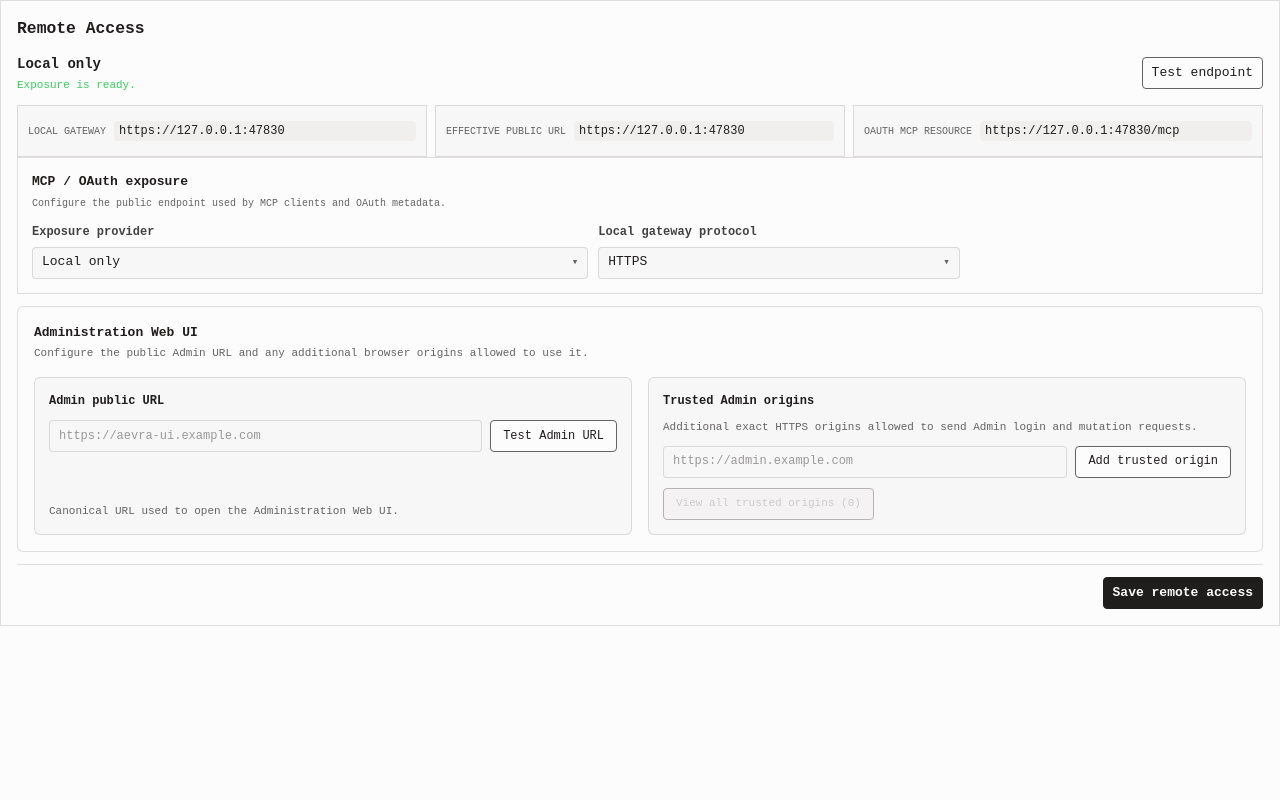
it: RemoteAccessSettings branches › probes the admin URL and reports each reachability outcome
Click the button "Test Admin URL" at [554, 436], box [490,420,617,452]
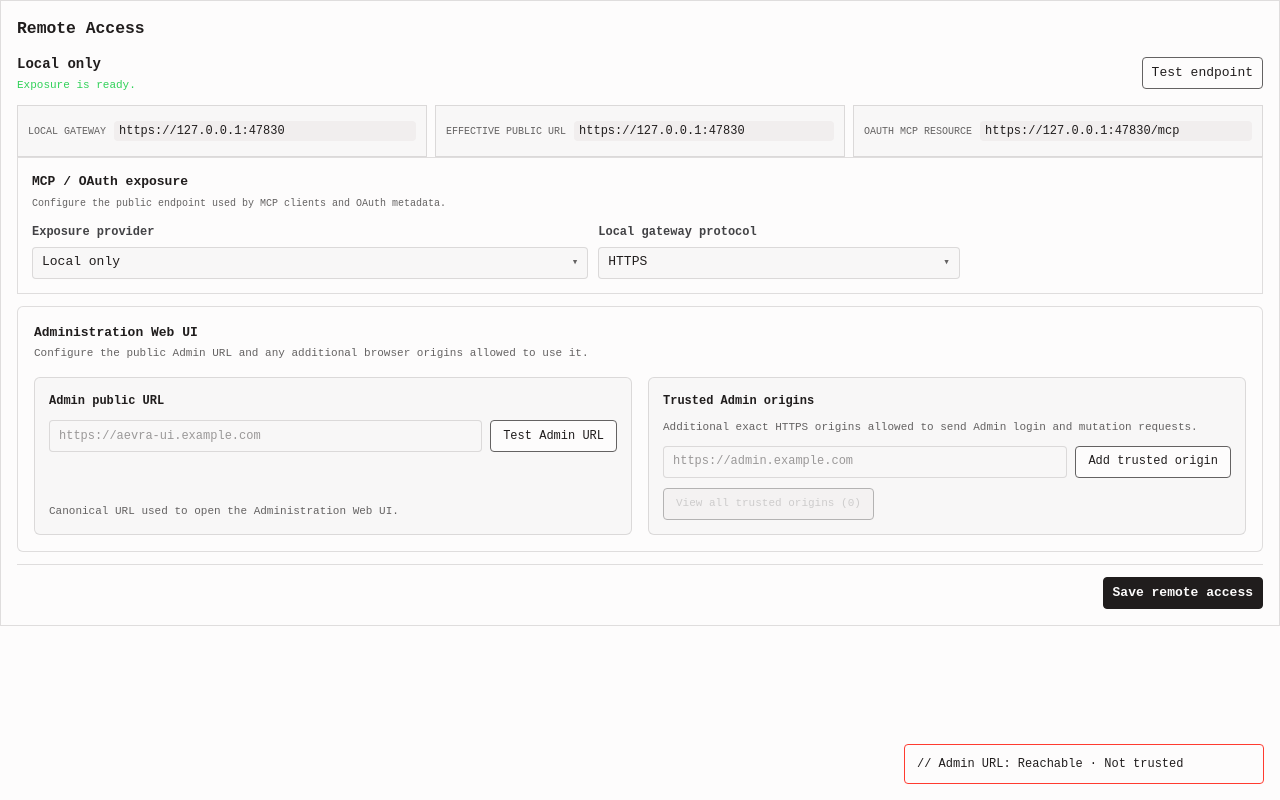
Expected: the message with class "toast" shows "Not trusted", [939,757,1183,771]
Click the button "Test Admin URL" at [554, 436], box [490,420,617,452]
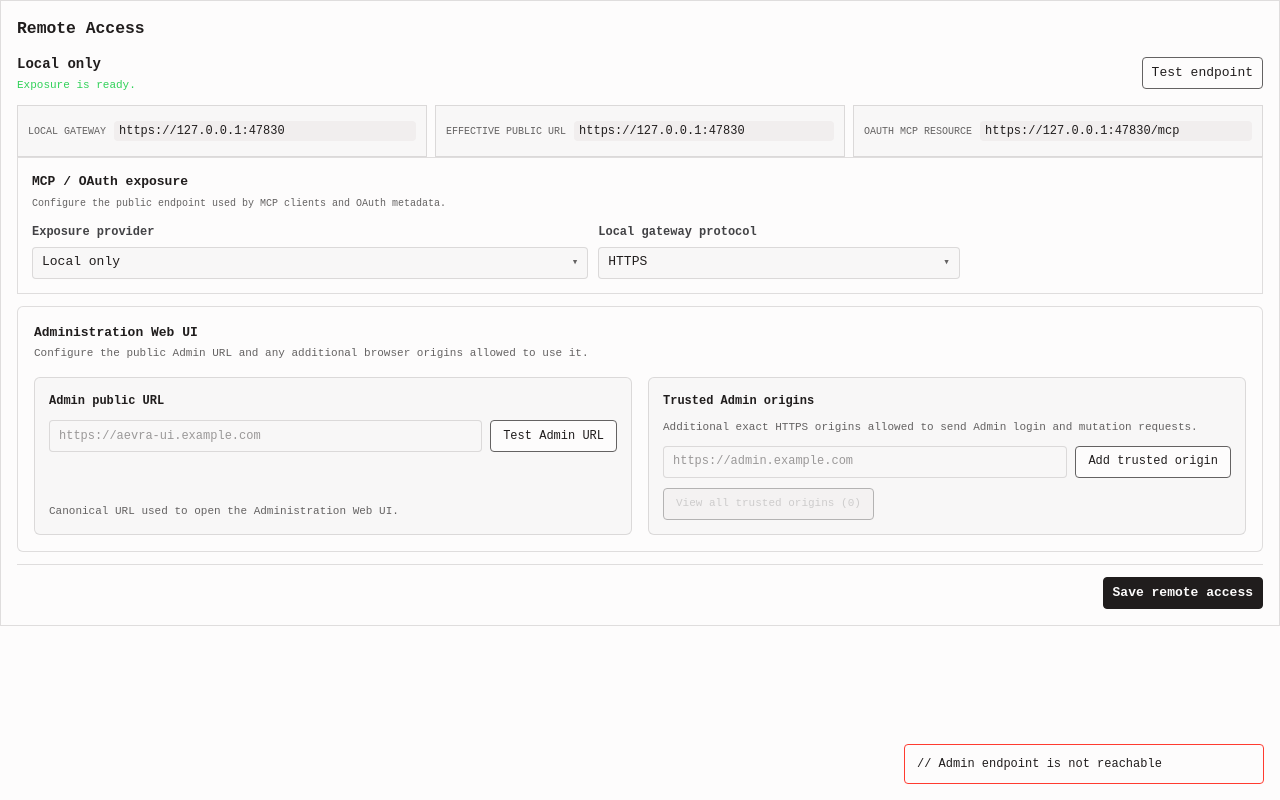
Expected: the message with class "toast" reads "Admin endpoint is not reachable", [939,757,1162,771]
Click the button "Test Admin URL" at [554, 436], box [490,420,617,452]
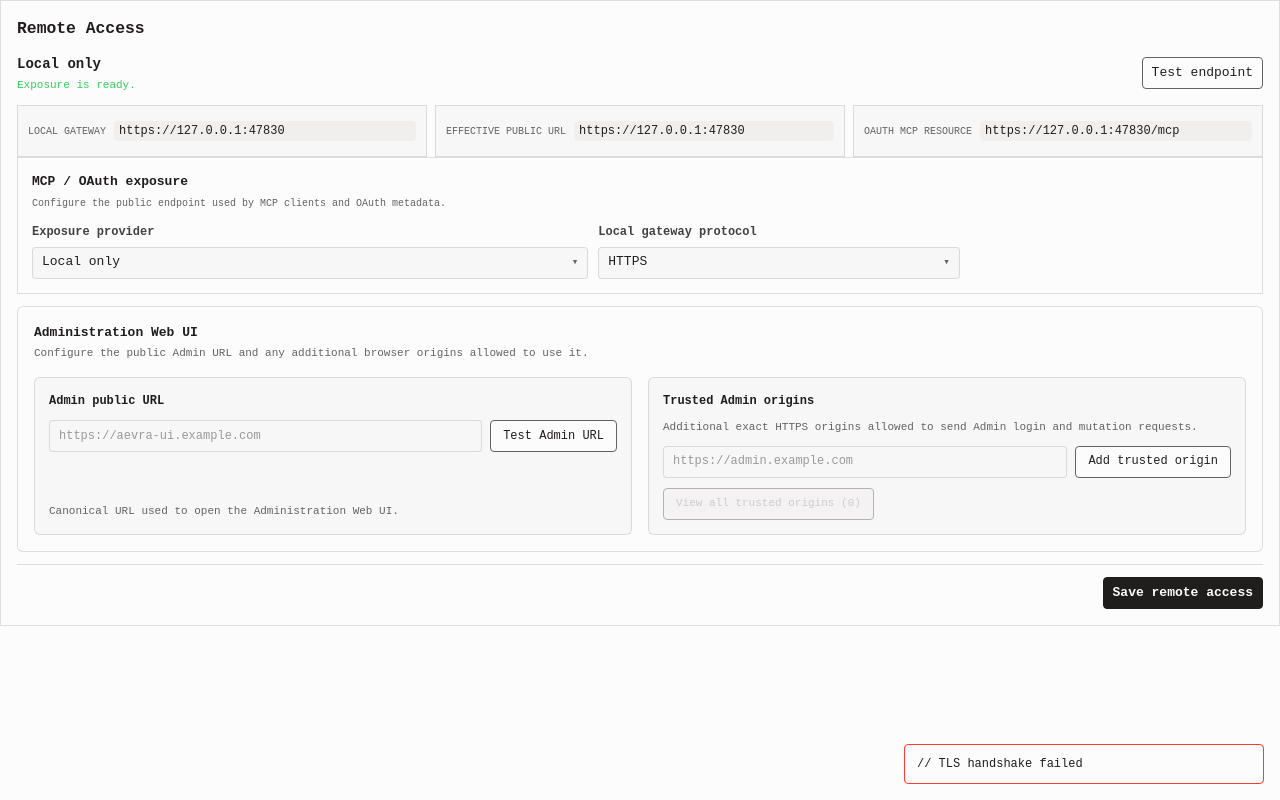
Expected: the message with class "toast" reads "TLS handshake failed", [939,757,1083,771]
Click the button "Test Admin URL" at [554, 436], box [490,420,617,452]
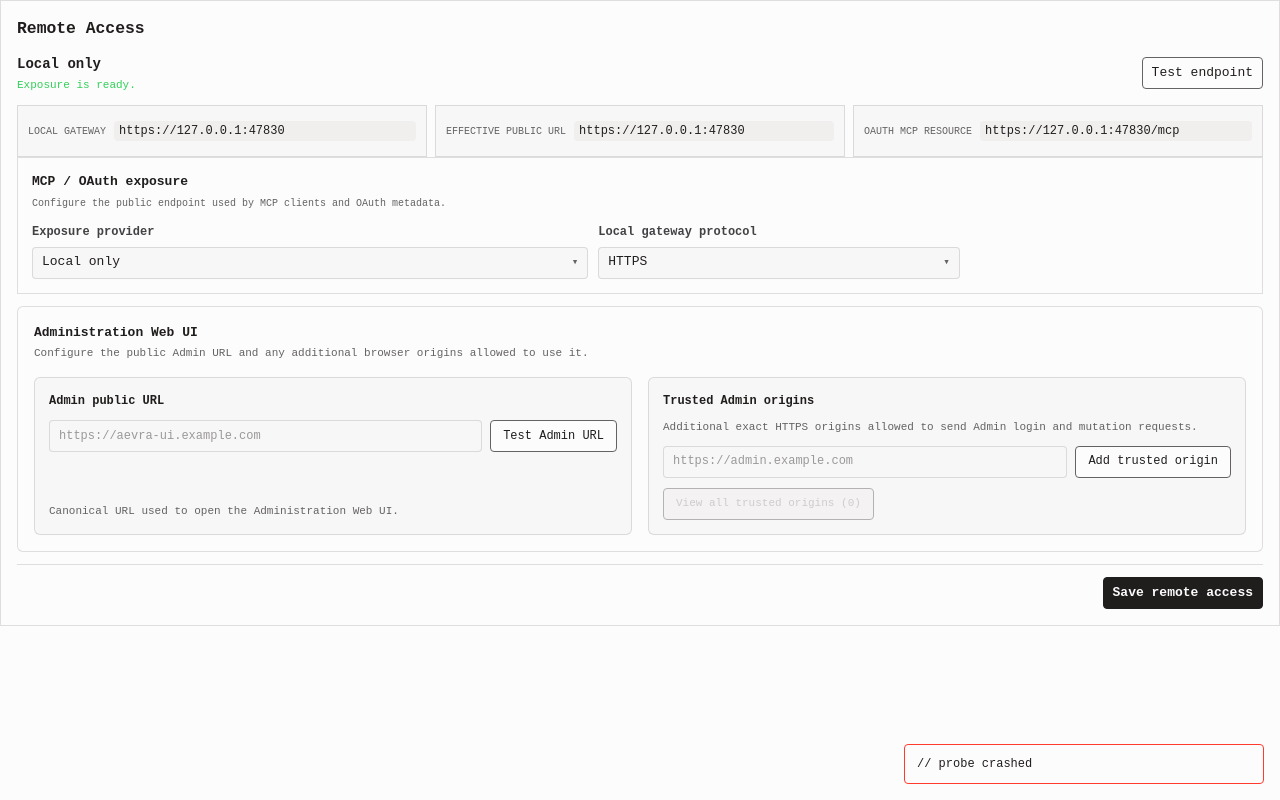
Expected: the message with class "toast" reads "probe crashed", [939,757,1032,771]
Click the button "Test Admin URL" at [554, 436], box [490,420,617,452]
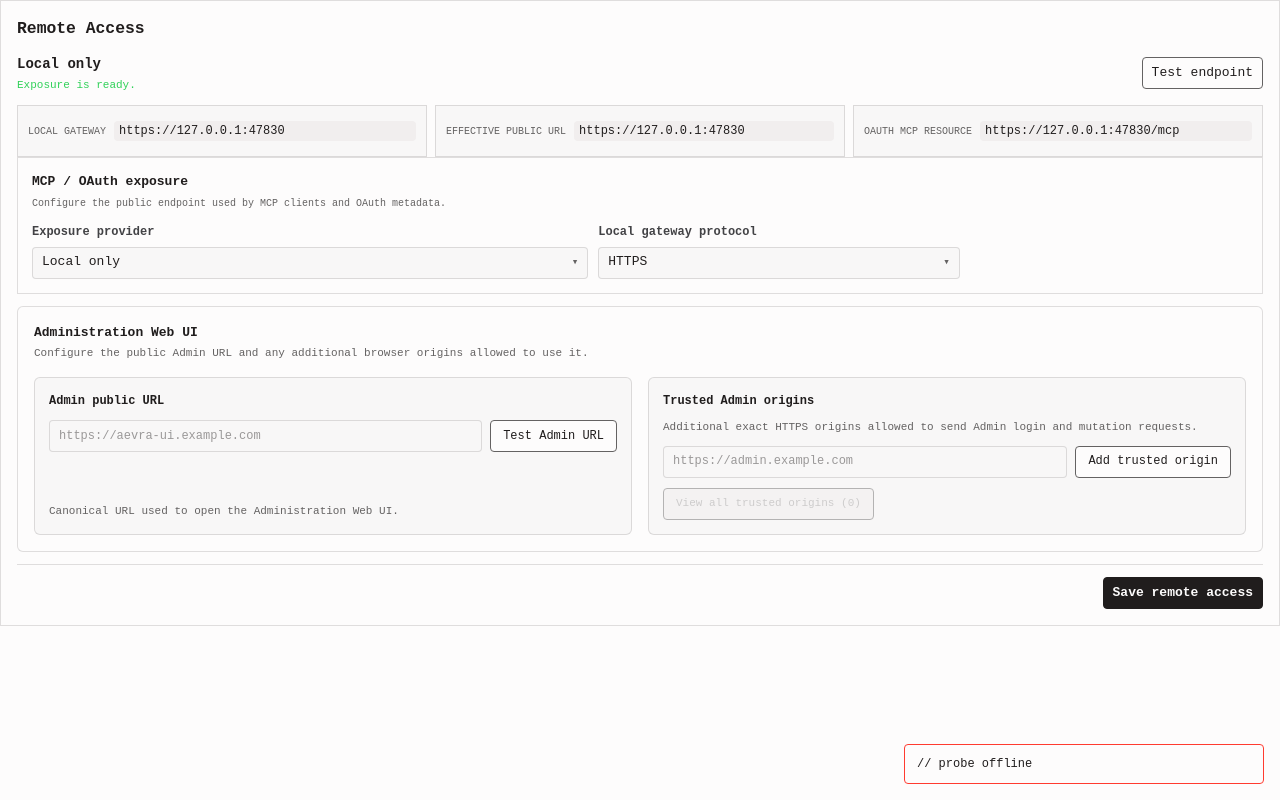
Expected: the message with class "toast" reads "probe offline", [939,757,1032,771]
